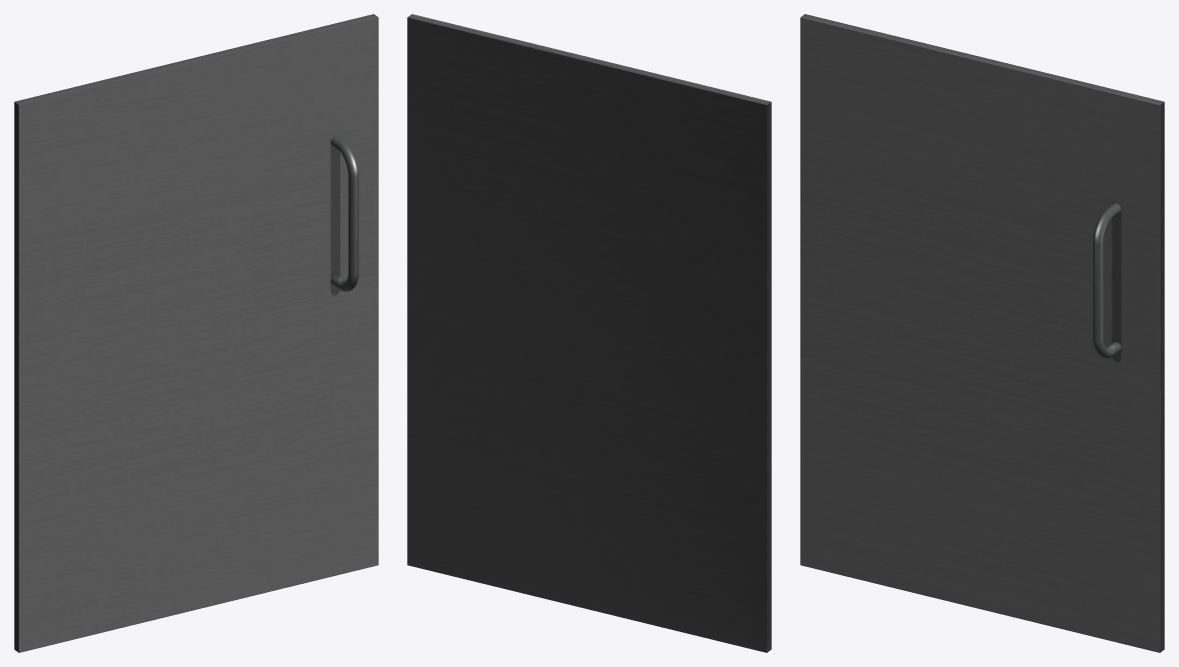
Rendered from cabinet_b1.gltf.
The picture shows the model from 3 angles, left to right: view 1: azimuth 30°, elevation 25°; view 2: azimuth 150°, elevation 25°; view 3: azimuth 330°, elevation 25°; orthographic projection.
Visible parts, largest first — view 1: cabinet_b1, handle_cabinet_b1; view 2: cabinet_b1; view 3: cabinet_b1, handle_cabinet_b1.
Boxes of the visible parts, <box> form: cabinet_b1: <box>14,14,378,652</box>; handle_cabinet_b1: <box>330,136,358,291</box>; cabinet_b1: <box>407,14,771,652</box>; cabinet_b1: <box>800,14,1164,652</box>; handle_cabinet_b1: <box>1093,203,1121,358</box>.
Bounding box in the file's own units: 1.59 × 2.31 × 0.1962.
Materials: 2 (2 with a texture image).
